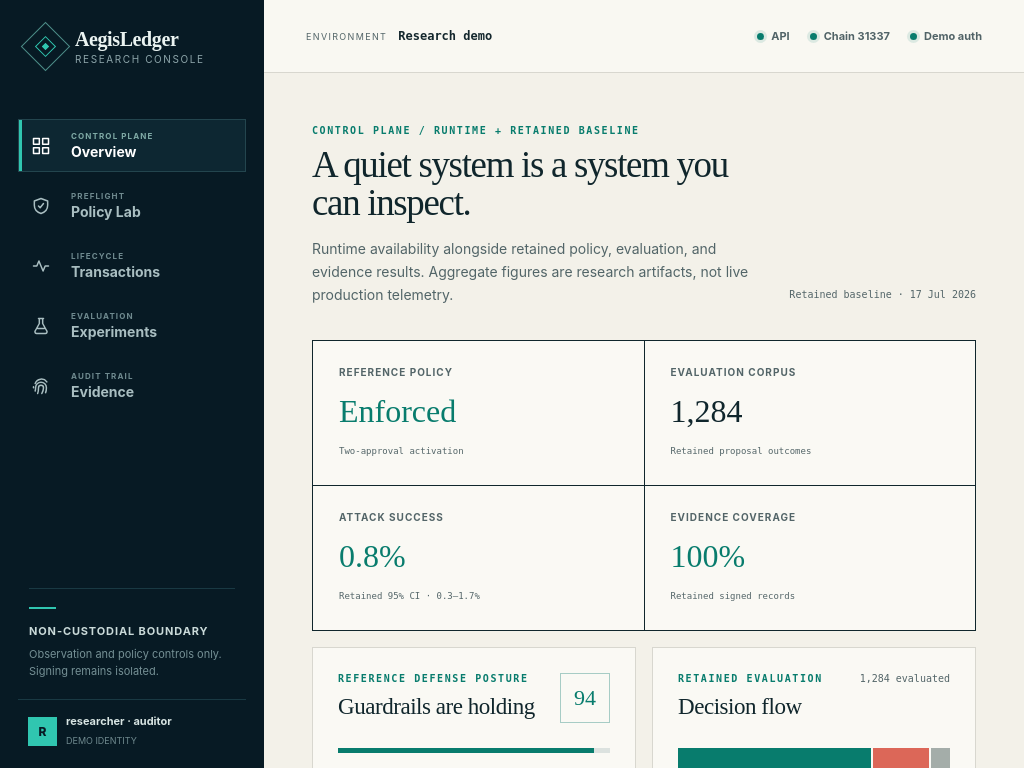
Scenario: AegisLedger console › resolves a proposal lifecycle without exposing signing controls
Click the button "Lifecycle Transactions": (132, 266) [18,239,246,292]
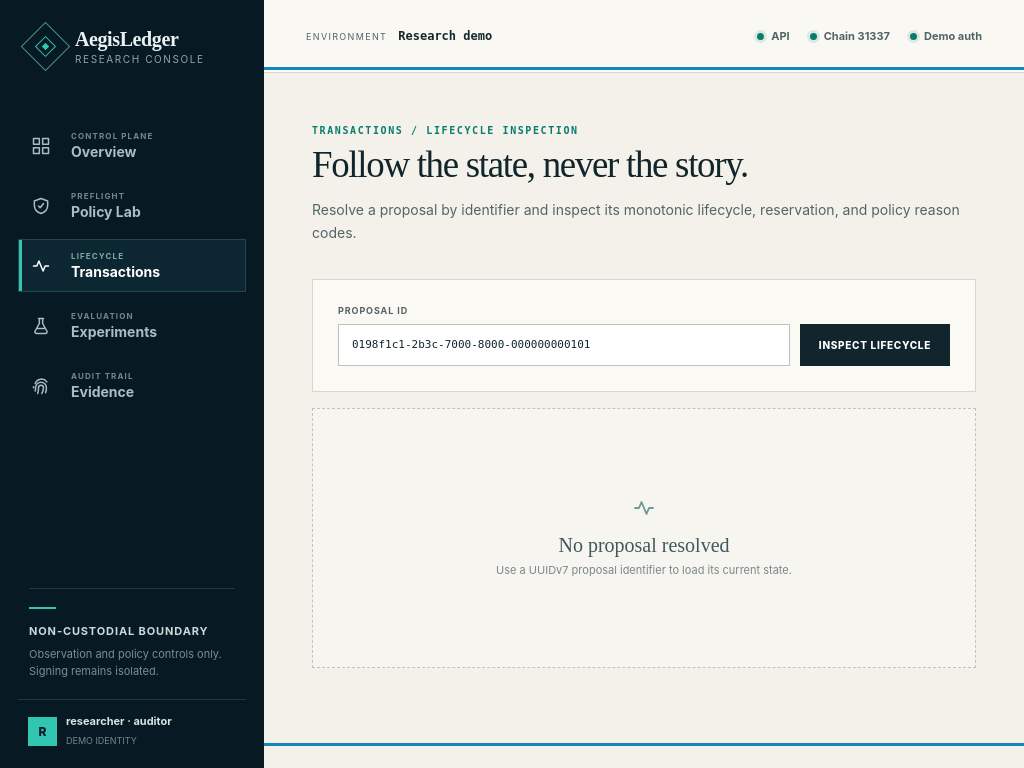
Click the button "Inspect lifecycle": (875, 344) [800,324,950,366]
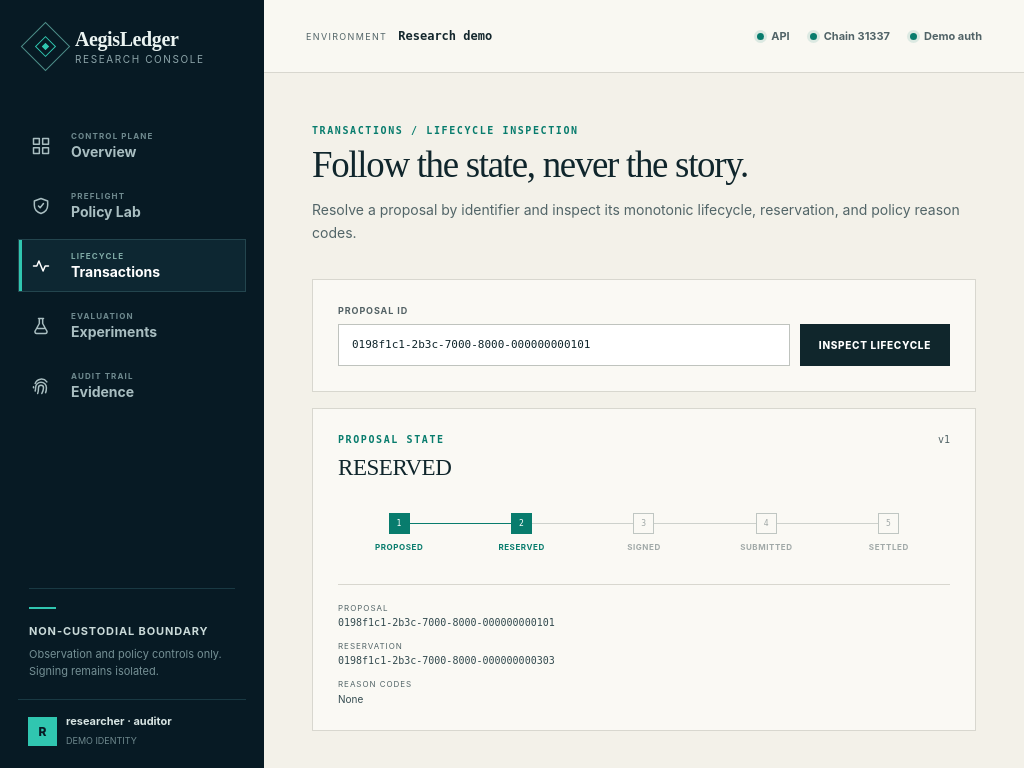
Expected: the heading "RESERVED" is shown, [338,454,451,480]
